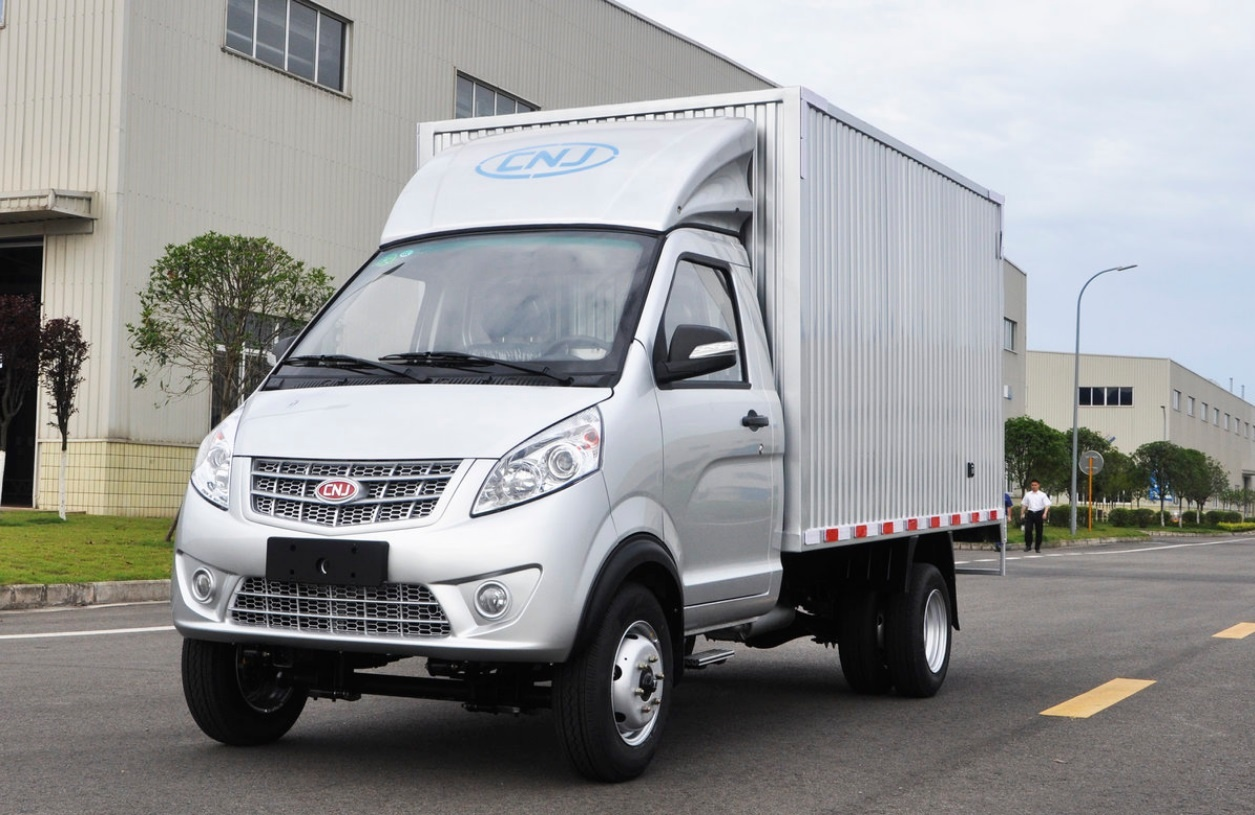truck: (180, 104, 1037, 750)
